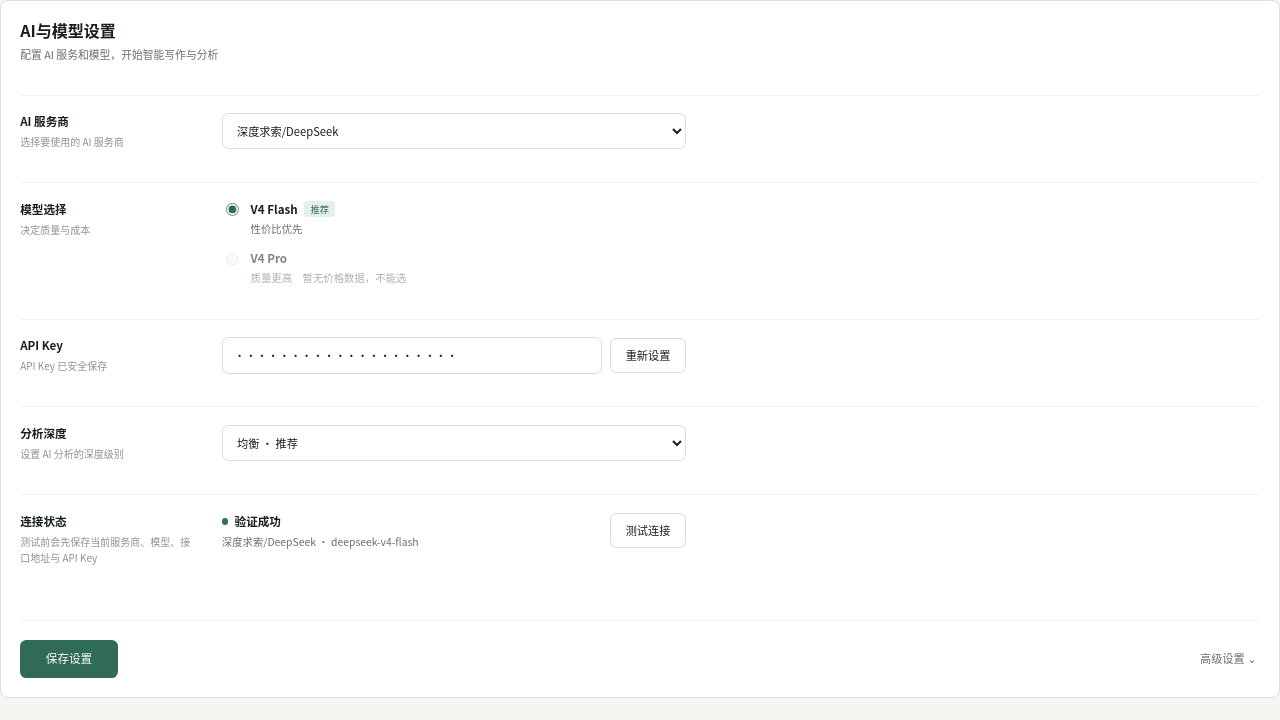
Test case: AiConnectionPanel › 保存设置只持久化，不偷偷发起真实连接测试
Expected: the element with test id "ai-connection-status" is shown, [222, 513, 686, 550]
Expected: the radio button labelled "V4 Flash 推荐 性价比优先" is checked, [226, 203, 239, 216]
What coordinates should you click on to do the following:
click the button with test id "ai-save"
I would click on:
 (69, 659)
Its box is [20, 640, 118, 678].
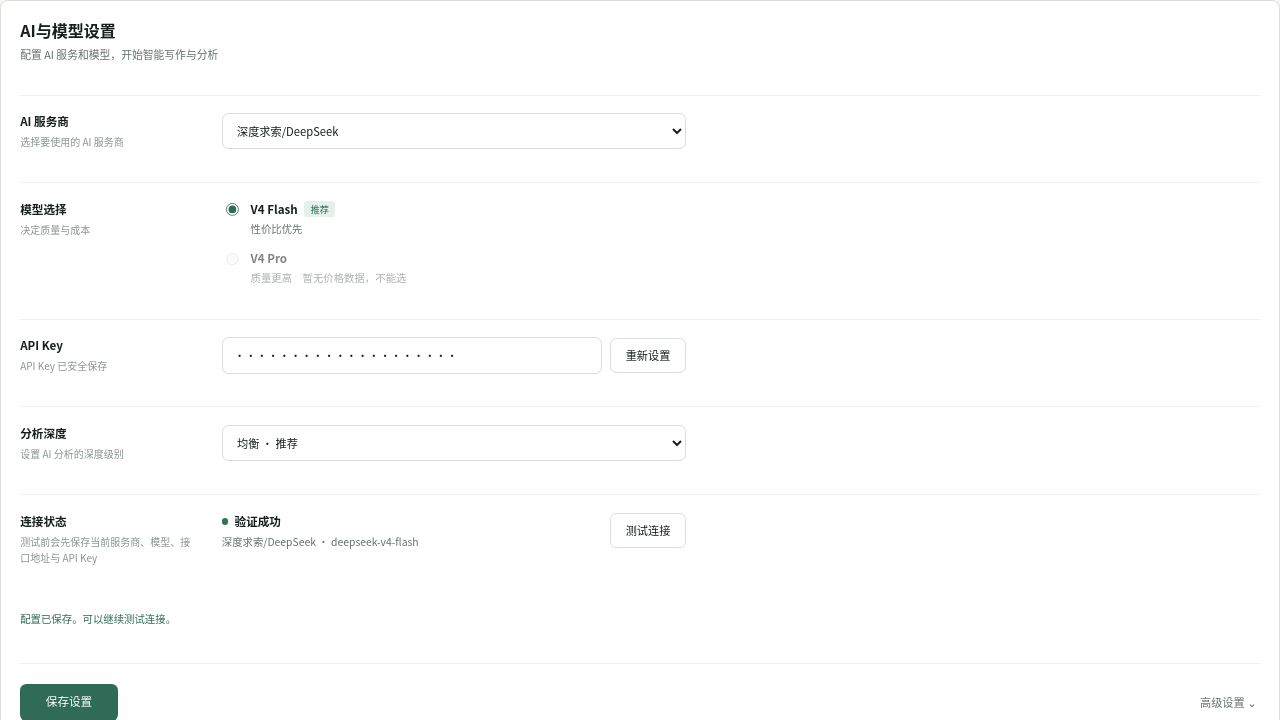
Expected: the message with test id "ai-message" shows "配置已保存", [20, 611, 176, 626]
